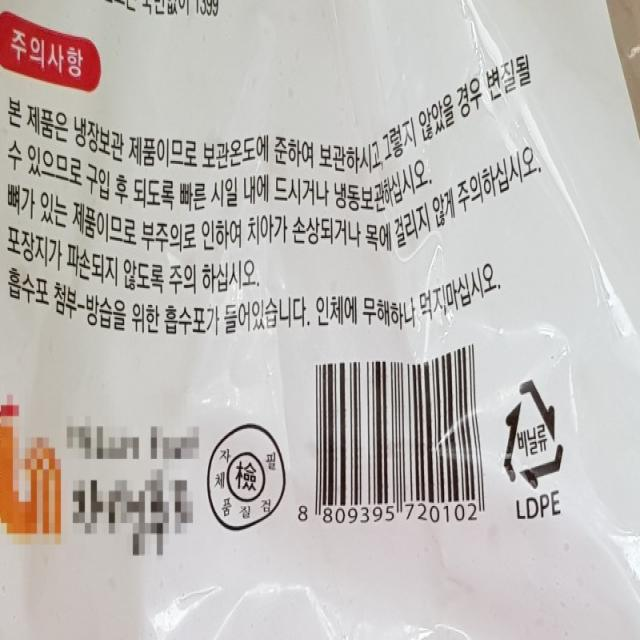Vinyl: (500, 371, 565, 493)
